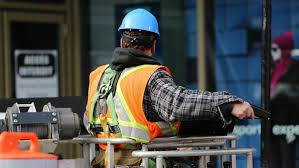Person_wearing_helmet: (114, 7, 162, 42)
